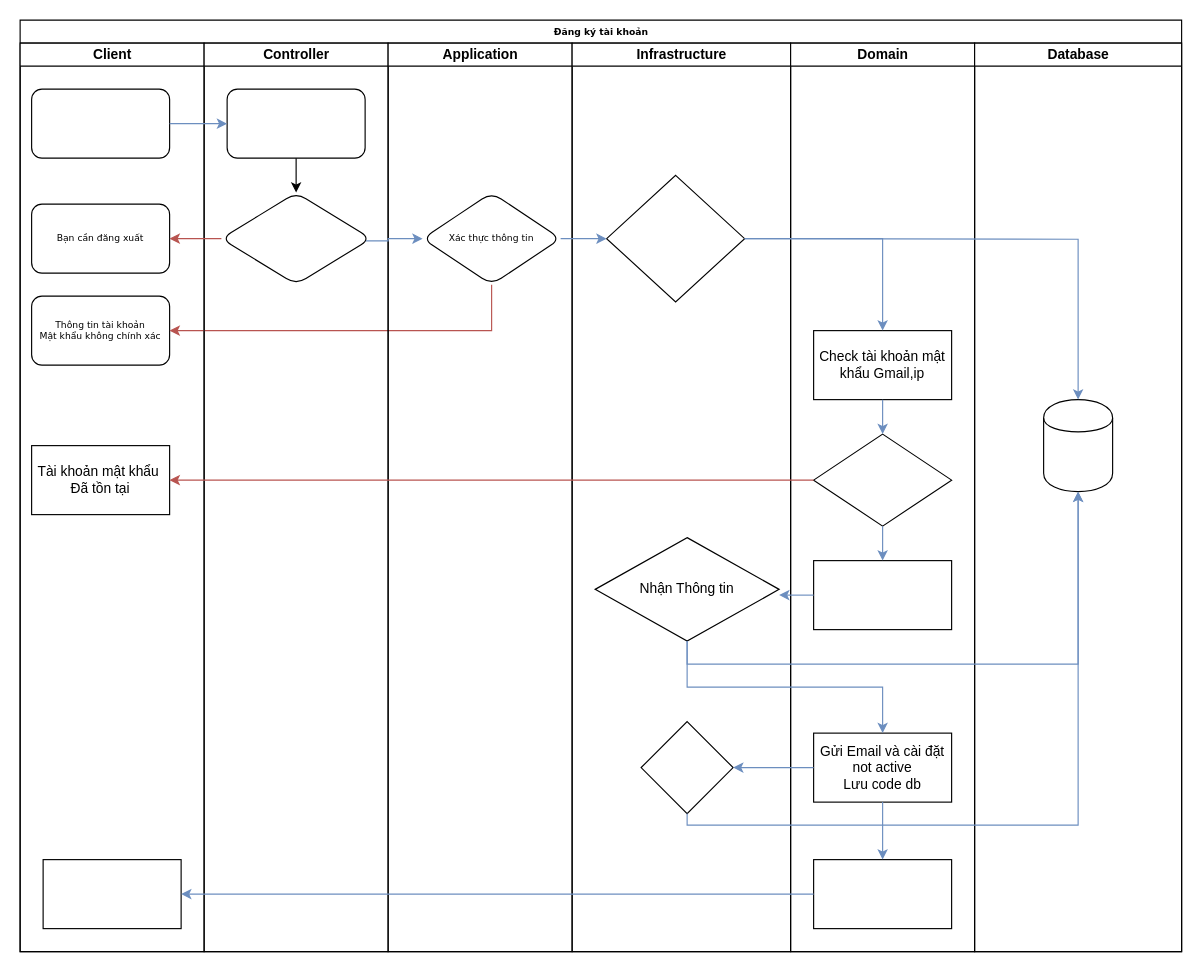
Some shapes in this 1202 by 972 pixel diagram are drawn without their labels. Here are the shapes that lost their labels. From the top down, the centre of each, then its label:
the point at 100,123: Thông tin
the point at 295,123: check đường dẫn
the point at 295,238: Kiểm tra sesion
the point at 675,238: Kiểm tra thông tin Tài khoản
the point at 882,594: Tạo thông tin đầy đủ và gán quyền mặc Định
the point at 111,893: Yêu cầu xác thực Nhưng vẫn có quyền căn bản
the point at 882,893: Khởi tạo cookei Sesion
